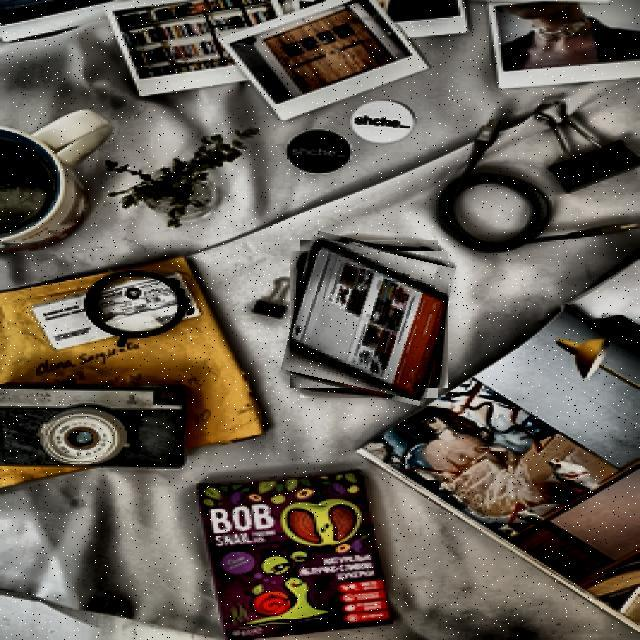Phone: (288, 238, 450, 400)
